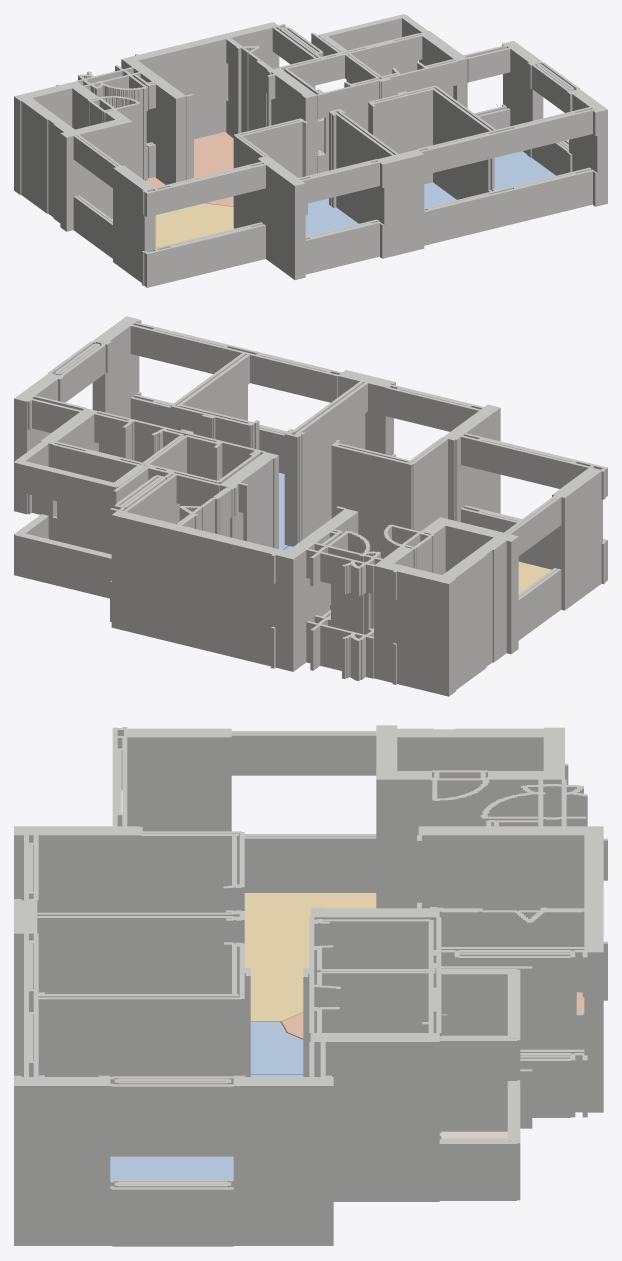
3 renders of one model, top to bottom at view 1: azimuth 30°, elevation 25°; view 2: azimuth 150°, elevation 25°; view 3: azimuth 270°, elevation 25°, orthographic. The views are drawn at different scales.
Visible parts, largest first — view 1: walls, room:living:0, room:kitchen:6, room:bedroom:4, room:bedroom:1, room:bedroom:3; view 2: walls, room:living:0; view 3: walls, room:living:0, room:bedroom:4, room:bedroom:1.
Part boxes in pixels (x1=…): walls: x1=14, y1=14, x2=607, y2=287; room:living:0: x1=112, y1=203, x2=234, y2=247; room:kitchen:6: x1=146, y1=132, x2=233, y2=206; room:bedroom:4: x1=494, y1=151, x2=555, y2=190; room:bedroom:1: x1=305, y1=198, x2=358, y2=236; room:bedroom:3: x1=424, y1=182, x2=456, y2=207; walls: x1=14, y1=316, x2=607, y2=696; room:living:0: x1=518, y1=561, x2=551, y2=593; walls: x1=14, y1=725, x2=607, y2=1246; room:living:0: x1=244, y1=893, x2=376, y2=1023; room:bedroom:4: x1=110, y1=1156, x2=233, y2=1179; room:bedroom:1: x1=39, y1=992, x2=303, y2=1074.
Bounding box in the file's own units: 13.55 × 2.8 × 9.42.
